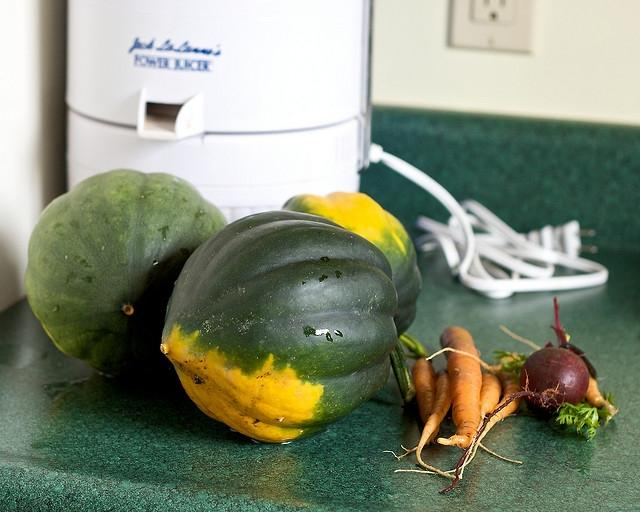carrot: (466, 353, 524, 465), (382, 358, 440, 461), (438, 326, 482, 448), (460, 372, 502, 480), (416, 370, 456, 480)
